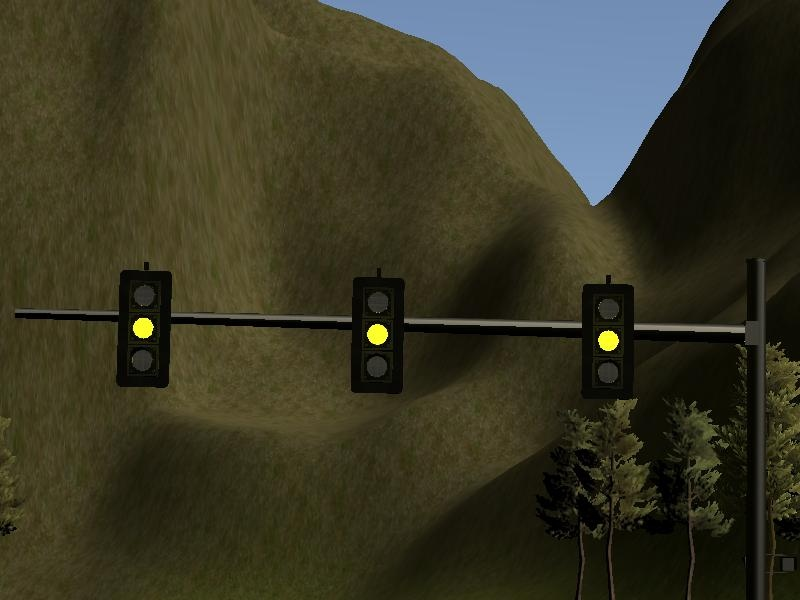YELLOW: (113, 269, 171, 389), (347, 274, 405, 394), (578, 279, 636, 399)
